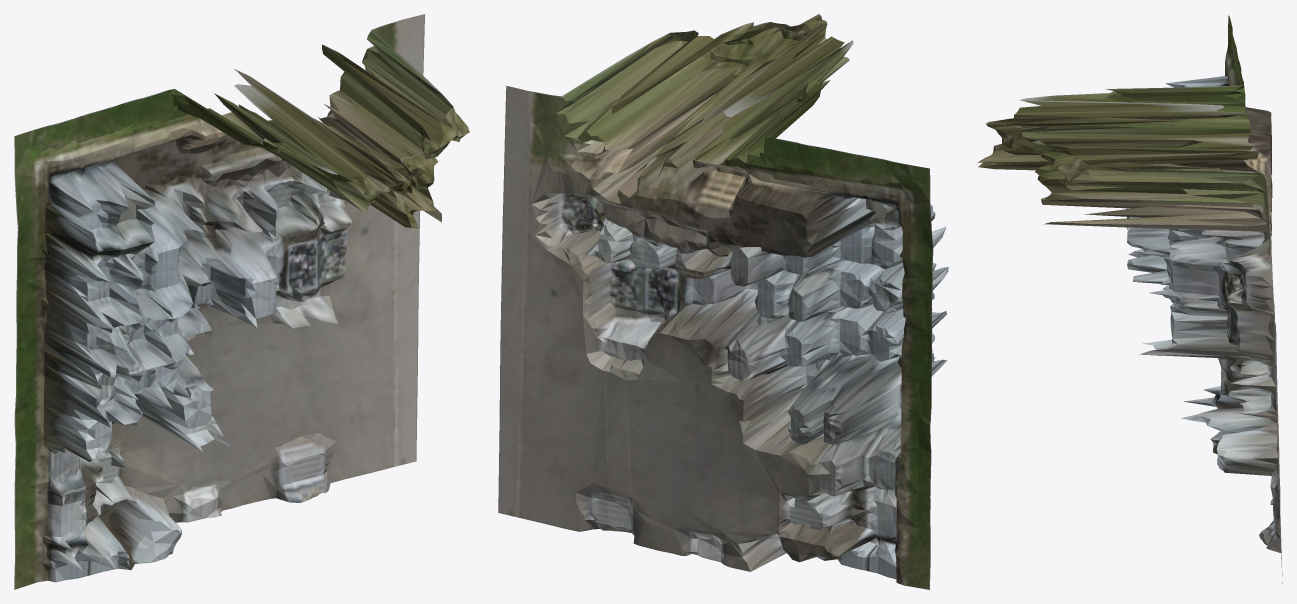
File: map_40_80.obj
The picture shows the model from 3 angles, left to right: view 1: azimuth 30°, elevation 25°; view 2: azimuth 150°, elevation 25°; view 3: azimuth 270°, elevation 25°; orthographic projection. The views are drawn at different scales.
Visible parts, largest first — view 1: grp1; view 2: grp1; view 3: grp1.
Boxes of the visible parts, x1,y1,x2,y2 form: grp1: (14,14,469,589); grp1: (498,14,948,589); grp1: (977,15,1282,583).
Bounding box in the file's own units: 10 × 10 × 7.05.
1 material, 1 textured.
